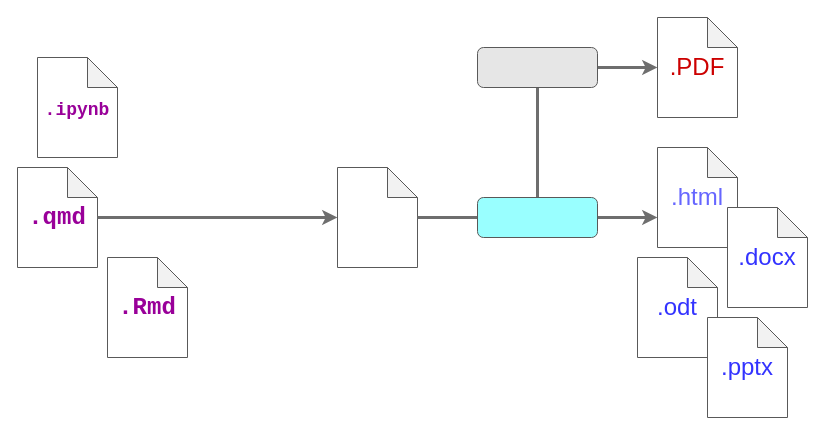
The diagram is 825 pixels wide and 435 high, and some of its shapes have lost their labels. Here are the shapes that lost their labels. From the top down, the box of each, then its label:
(476, 46, 598, 88): LaTeX
(336, 166, 418, 268): .md
(476, 196, 598, 238): pandoc
